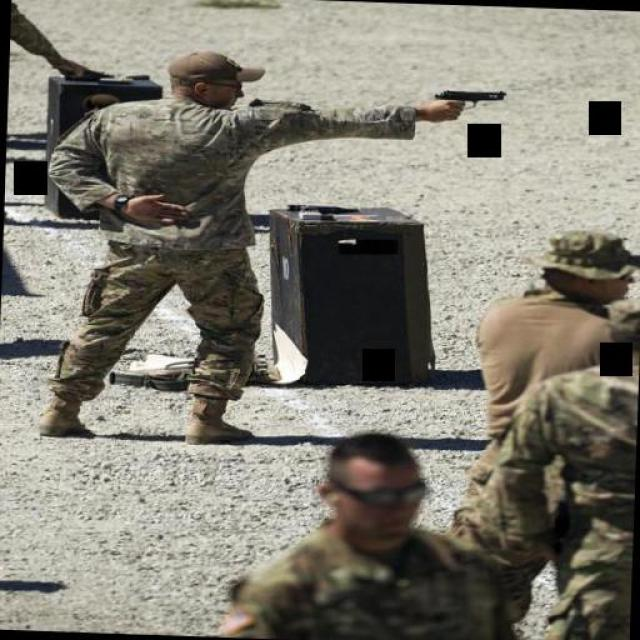gun: (428, 80, 512, 115)
